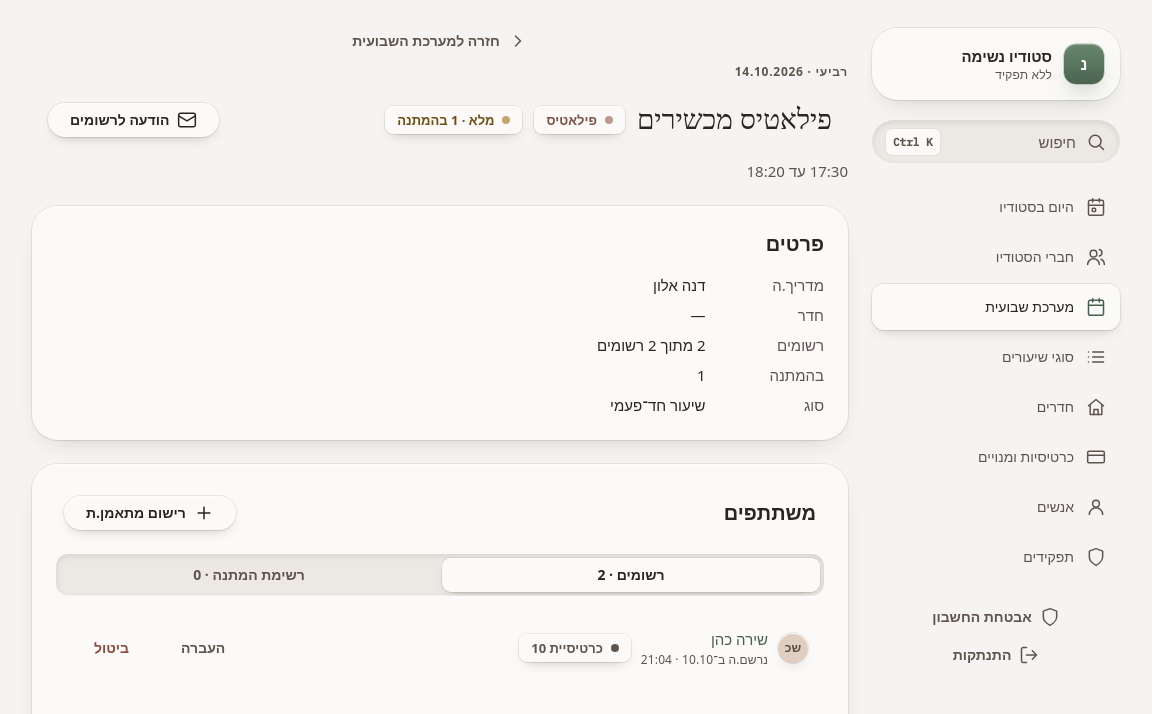
Test: the roster › books a walk-in, who lands on the waitlist when the class is full
Click the button "רישום מתאמן.ת" at [150, 513], box [64,496,236,530]
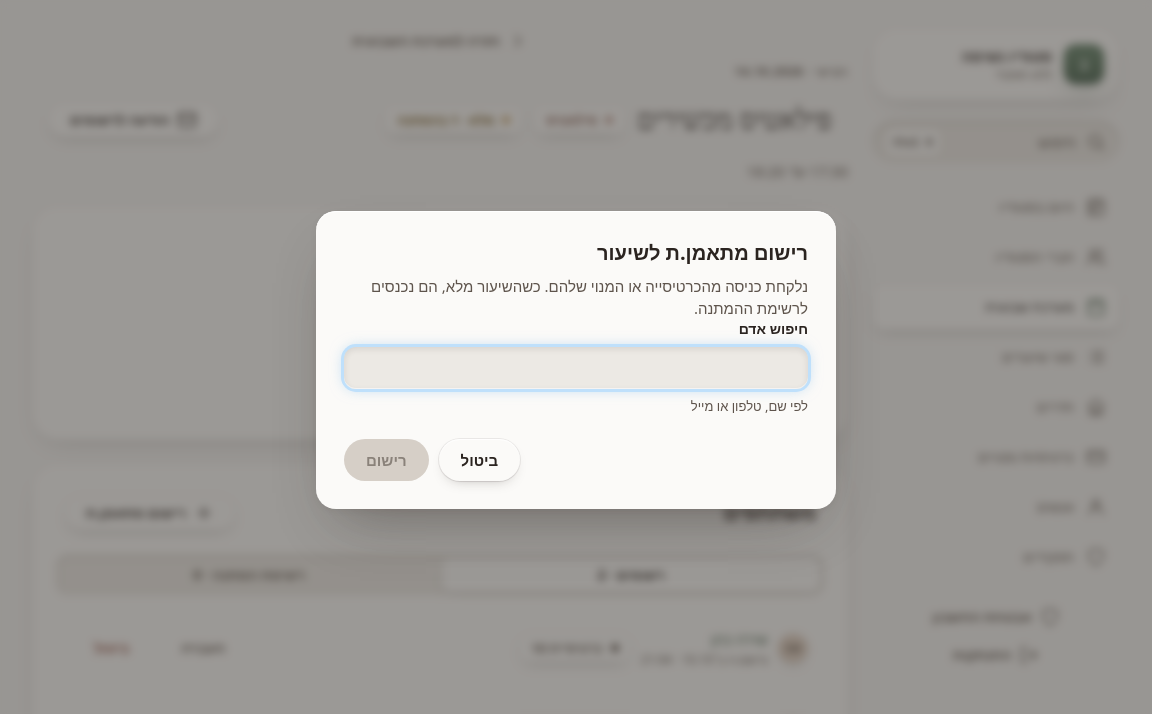
Type "רונ" into the search field labelled "חיפוש אדם" at [576, 368], box [344,347,808,389]
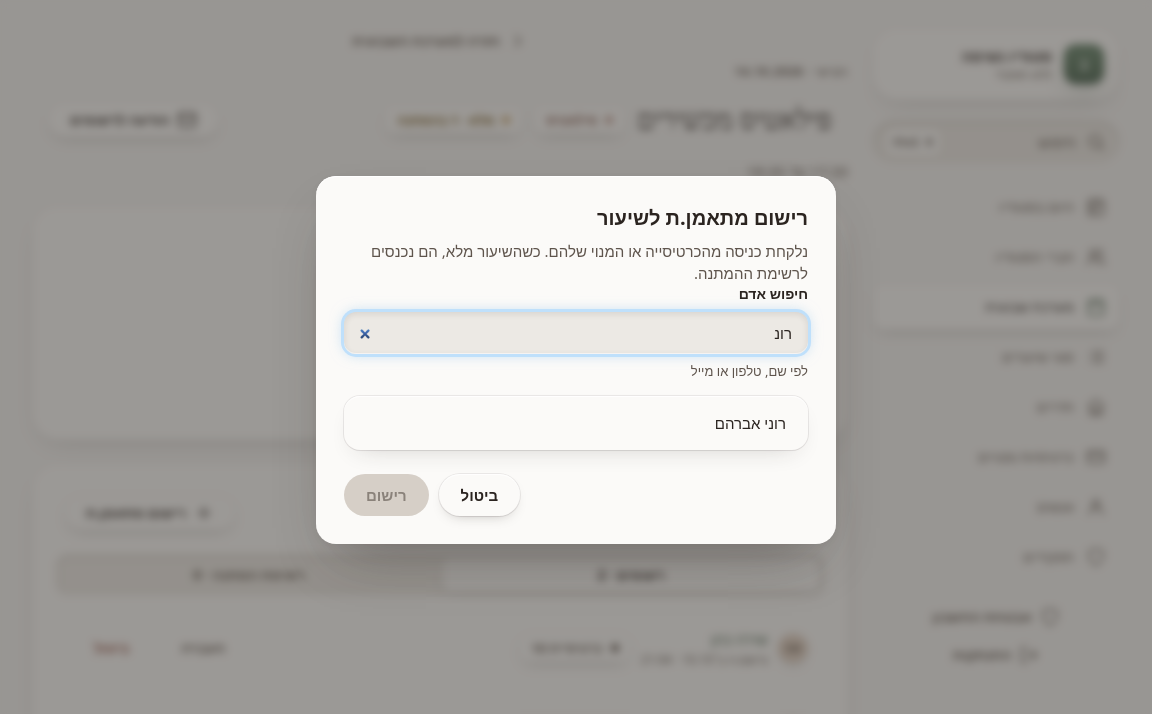
Click the option "רוני אברהם" at [750, 423], box [715,413,786,433]
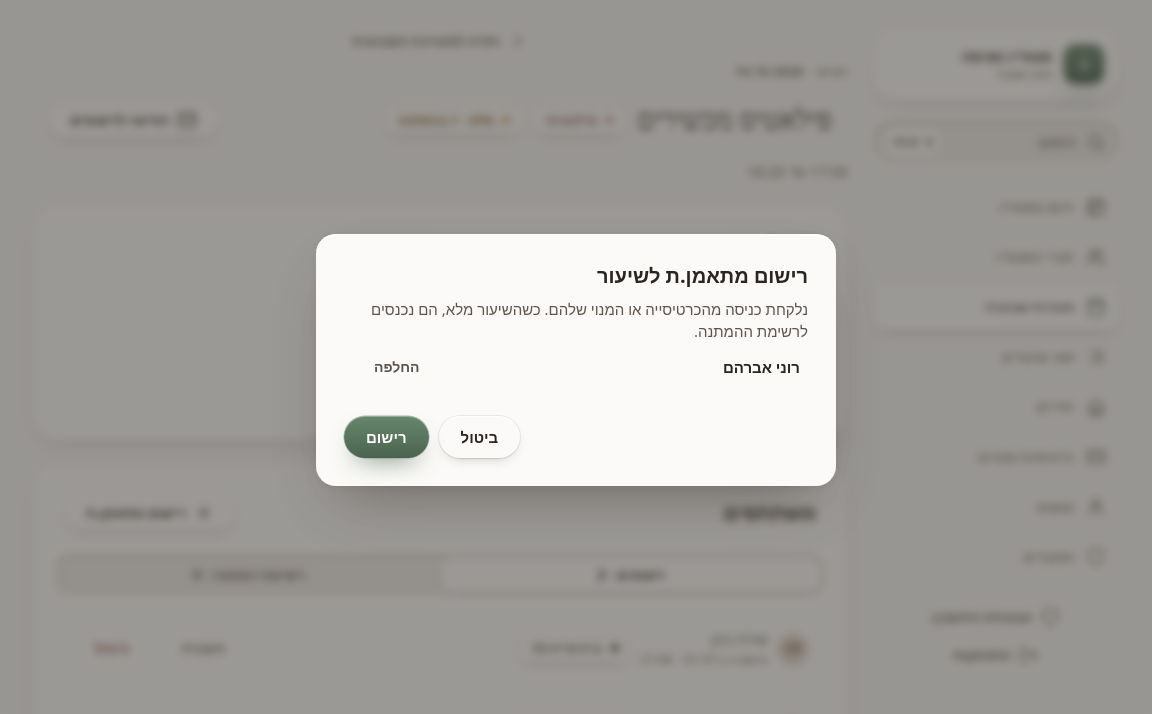
Click the button "רישום" at [386, 437], box [344,416,429,458]
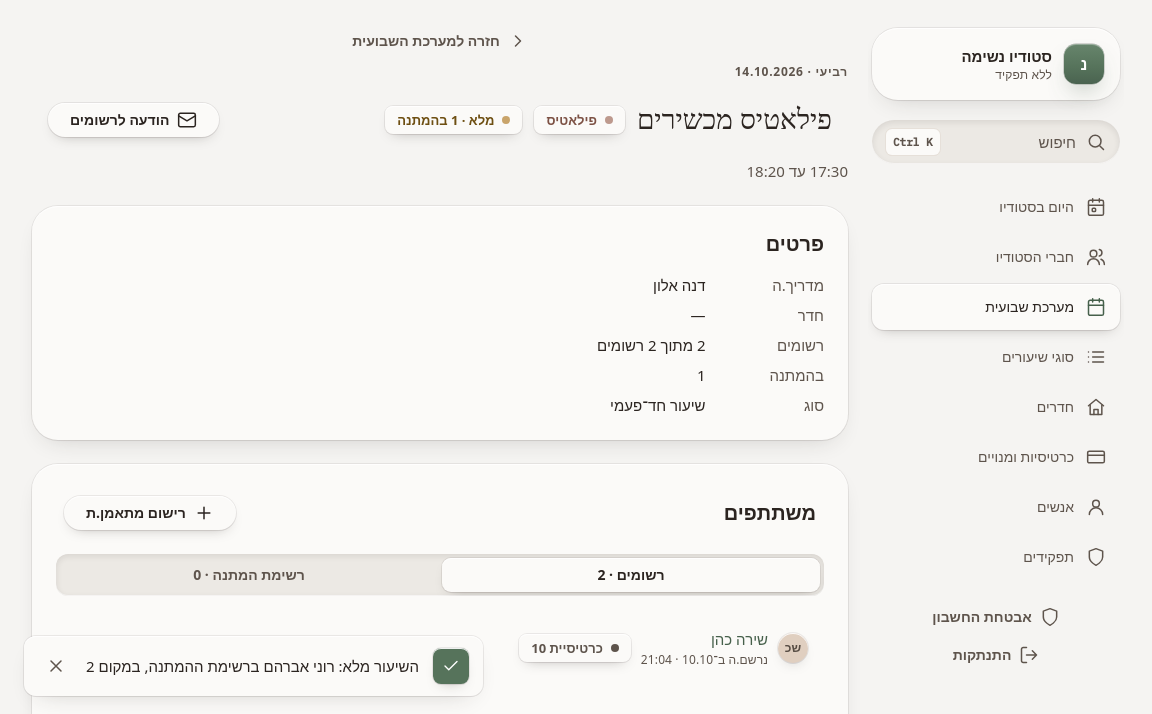
Now the text "השיעור מלא: רוני אברהם ברשימת ההמתנה, במקום 2" is shown, box [86,655,419,677]
